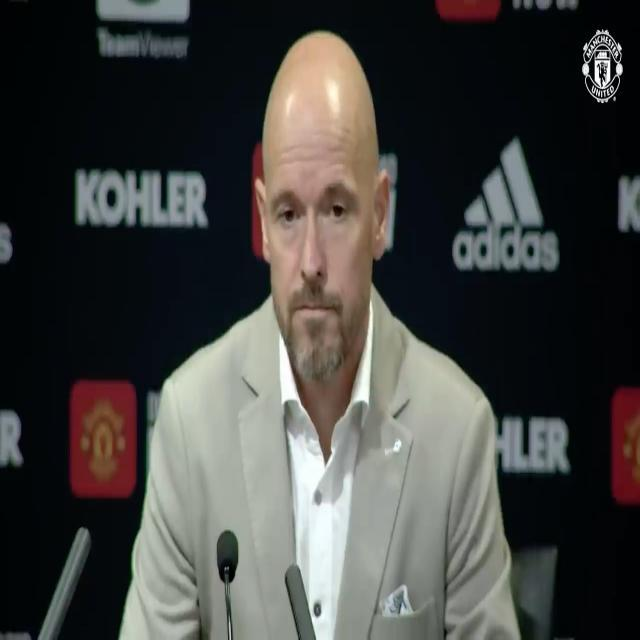Adidas: (450, 134, 562, 272)
Kohler: (75, 170, 210, 227)
TeamViewer: (96, 1, 190, 58)
